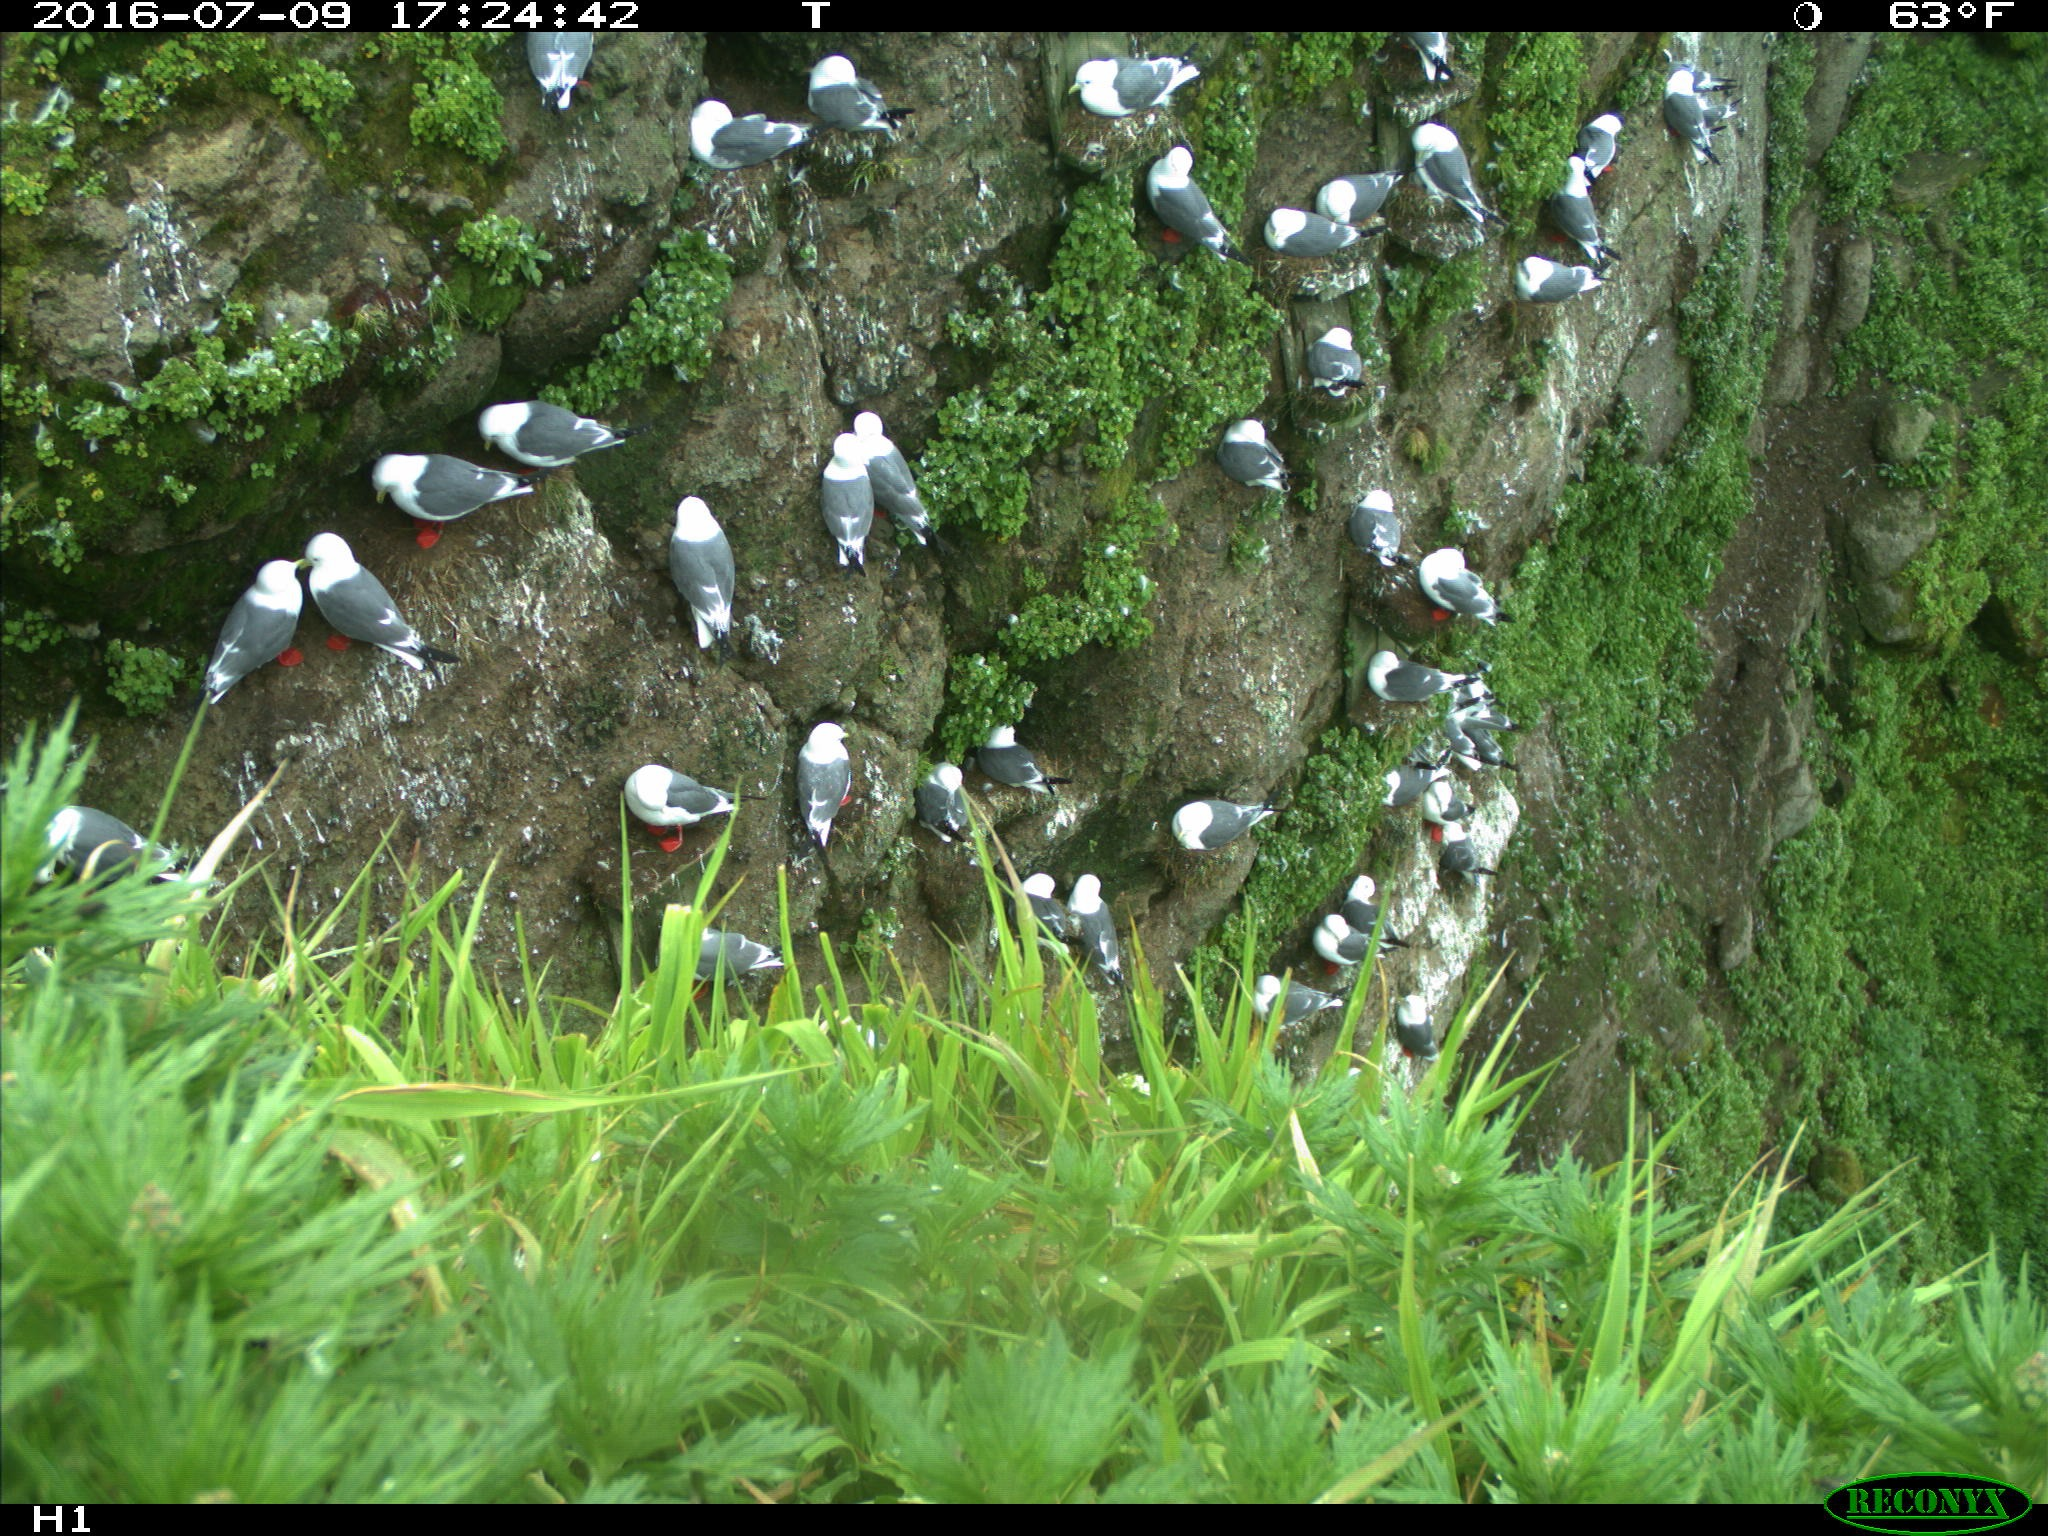Kittiwake: (634, 479, 842, 644), (285, 532, 461, 708), (358, 419, 555, 555), (187, 524, 311, 699), (839, 365, 942, 552), (593, 742, 739, 874), (789, 705, 935, 826), (1164, 766, 1301, 892), (481, 374, 619, 495), (1135, 136, 1245, 282), (15, 776, 129, 902), (672, 90, 824, 182), (1056, 47, 1206, 139), (800, 40, 911, 161), (1213, 394, 1317, 521), (676, 895, 800, 1000), (1297, 310, 1405, 428), (1358, 615, 1476, 721), (1416, 536, 1513, 663), (1329, 471, 1450, 573), (498, 24, 624, 118), (1059, 876, 1147, 1010), (1250, 939, 1342, 1063), (1392, 127, 1526, 211), (979, 708, 1074, 826), (798, 424, 877, 561), (1584, 90, 1687, 192), (1292, 907, 1401, 1000), (1342, 865, 1438, 963), (1492, 236, 1600, 323), (1263, 181, 1350, 278), (1663, 66, 1734, 174), (1006, 834, 1061, 963), (918, 747, 985, 850), (1538, 166, 1600, 274), (1408, 779, 1505, 845), (1316, 157, 1384, 248), (1559, 137, 1634, 219)
